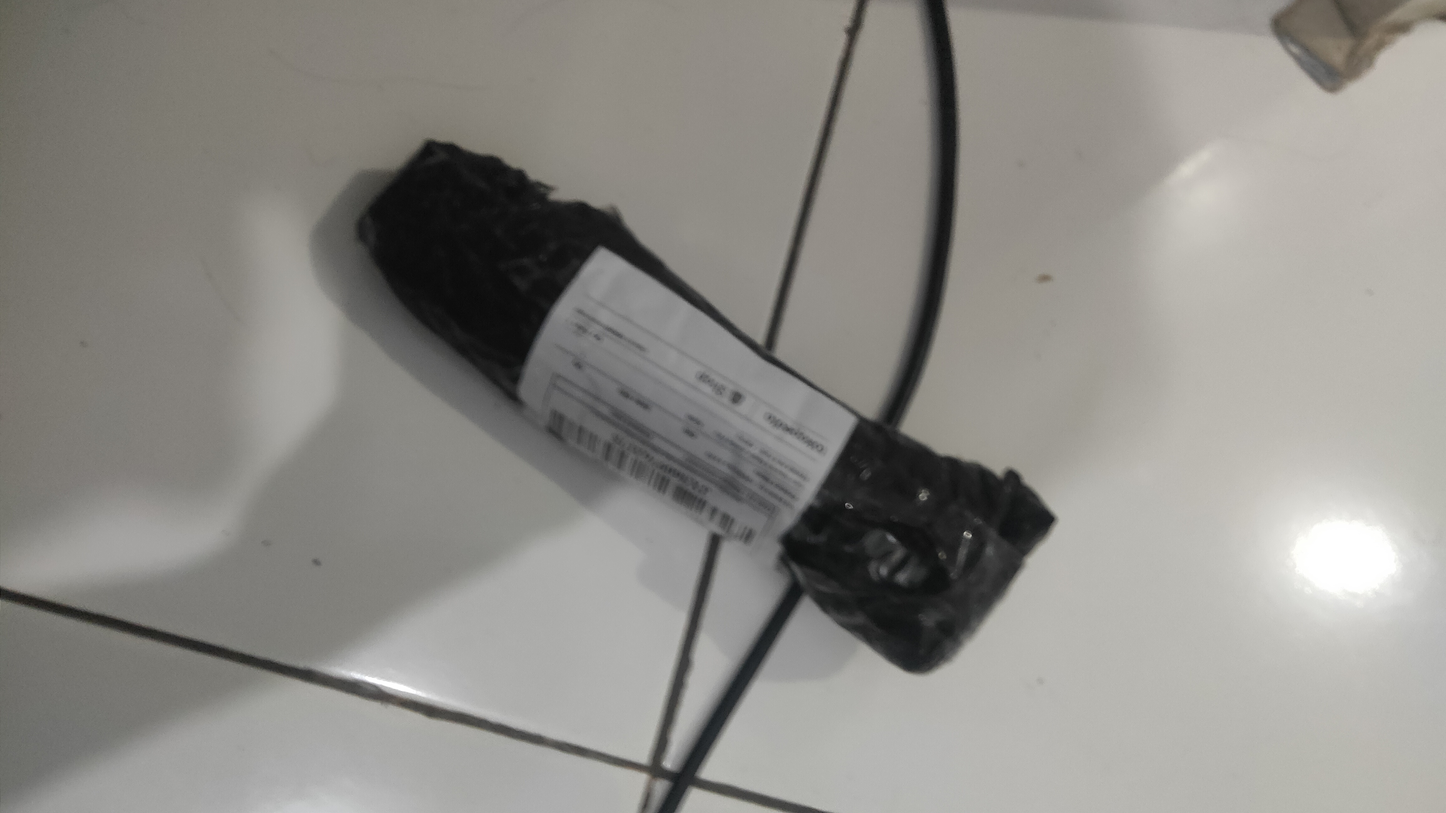damaged package: (817, 510, 954, 606), (495, 170, 607, 215)
undamaged: (324, 121, 1081, 690)
